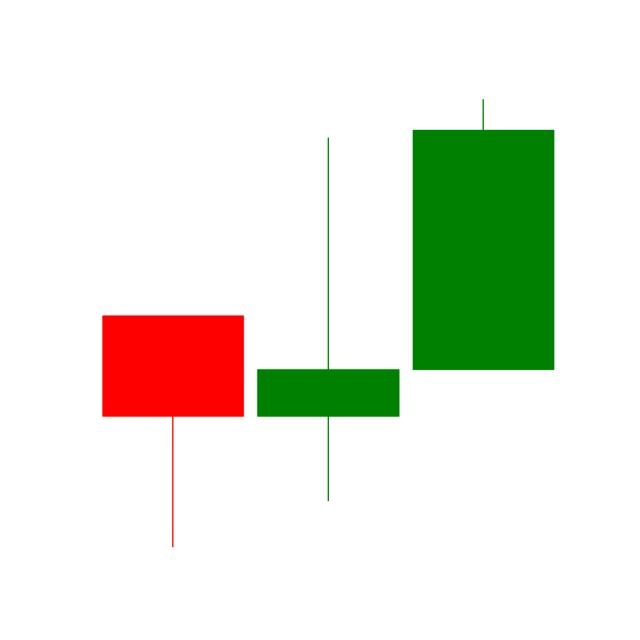Gravenstone Doji: (254, 135, 403, 505)
Hanging Man: (102, 314, 246, 550)
